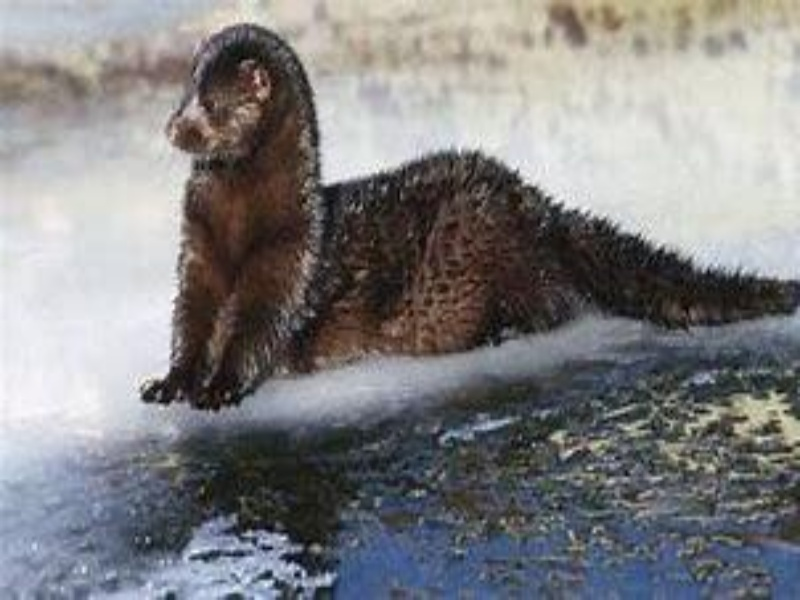minkish: (134, 17, 800, 414)
